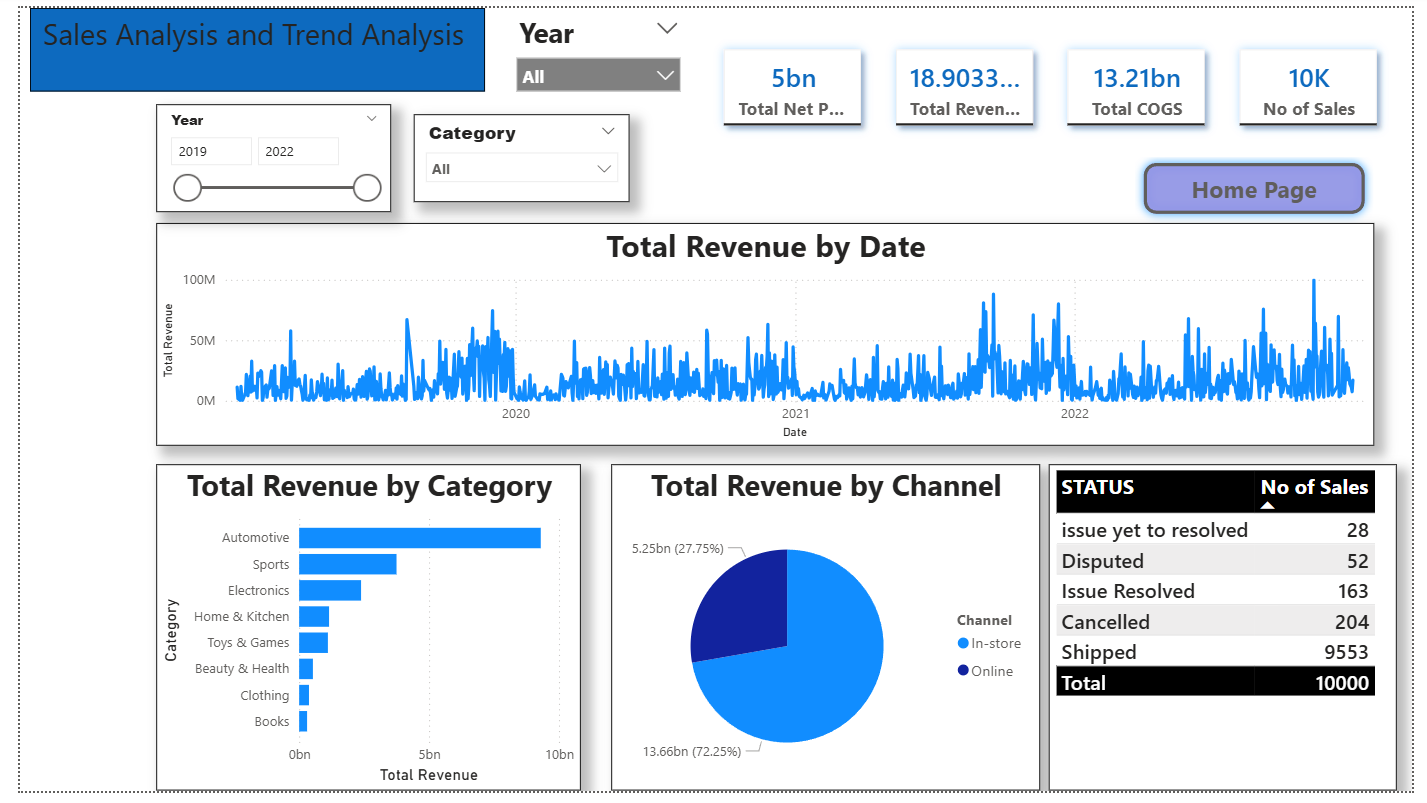

What the dashboard file says about the page in this screenshot:
{"tool":"powerbi","page":{"name":"Sales and Trend Analysis","canvas":[1280,720],"ordinal":1},"visuals":[{"type":"textbox","box":[9.6,0,418.5,76.8],"z":0},{"type":"clusteredBarChart","fields":{"Y":["Sales Report.Total Revenue"],"Category":["Products.Category"]},"box":[125.6,419.8,390.7,300],"z":1000},{"type":"pieChart","fields":{"Y":["Sales Report.Total Revenue"],"Category":["Sales Report.Channel"]},"box":[544.2,419.8,394.2,300],"z":2000},{"type":"lineChart","fields":{"Y":["Sales Report.Total Revenue"],"Category":["Dates.Date"]},"box":[125.6,197.7,1119.8,204.7],"z":3000},{"type":"tableEx","fields":{"Values":["Sales Report.STATUS","Sales Report.No of Sales"]},"box":[946.5,419.8,319.8,300],"z":4000},{"type":"slicer","fields":{"Values":["Dates.Year"]},"box":[125.6,88.4,216.3,98.8],"z":5000},{"type":"slicer","fields":{"Values":["Products.Category"]},"box":[361.5,97.4,198.7,80.8],"z":6000},{"type":"slicer","fields":{"Values":["Dates.Year"]},"box":[446,0,171.5,76.8],"z":7000},{"type":"actionButton","box":[1025.6,134.6,219.2,62.8],"z":8000},{"type":"cardVisual","fields":{"Data":["Sales Report.Total Net Profit","Sales Report.Total Revenue","Sales Report.Total COGS","Sales Report.No of Sales"]},"box":[617.9,9,661.5,128.2],"z":9000}]}

Visuals, with their boxes in screenshot pixels (x1, y1, x2, y2), scaled from the page's 1280x720 canvas onto the 1427x803 screenshot:
textbox: select_region(11, 0, 477, 86)
clusteredBarChart - Sales Report.Total Revenue x Products.Category: select_region(140, 468, 576, 802)
pieChart - Sales Report.Total Revenue x Sales Report.Channel: select_region(607, 468, 1046, 802)
lineChart - Sales Report.Total Revenue x Dates.Date: select_region(140, 220, 1388, 449)
tableEx - Sales Report.STATUS x Sales Report.No of Sales: select_region(1055, 468, 1412, 802)
slicer - Dates.Year: select_region(140, 99, 381, 209)
slicer - Products.Category: select_region(403, 109, 625, 199)
slicer - Dates.Year: select_region(497, 0, 688, 86)
actionButton: select_region(1143, 150, 1388, 220)
cardVisual - Sales Report.Total Net Profit x Sales Report.Total Revenue: select_region(689, 10, 1426, 153)
